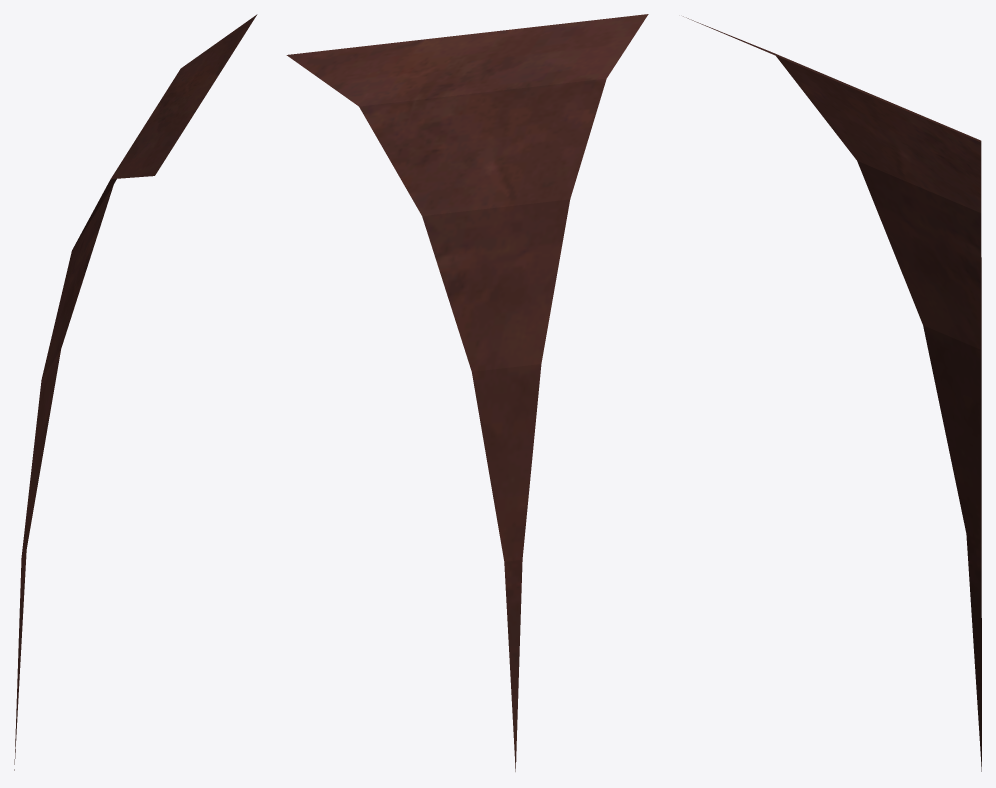
The model's file is lava_base_convex_01.fbx.
3 renders of one model, left to right at view 1: azimuth 30°, elevation 25°; view 2: azimuth 150°, elevation 25°; view 3: azimuth 270°, elevation 25°, orthographic. The views are drawn at different scales.
Visible parts, largest first — view 1: obj0.136; view 2: obj0.136; view 3: obj0.136.
Boxes of the visible parts, bbox=[...] form: obj0.136: bbox=[14, 14, 257, 770]; obj0.136: bbox=[286, 14, 648, 771]; obj0.136: bbox=[683, 16, 981, 771].
Size of the model in its own units: 2 by 5.5 by 2.
